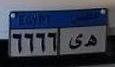6: (46, 31, 57, 54), (35, 32, 46, 53), (12, 31, 22, 54), (24, 32, 34, 54)
haa: (84, 33, 98, 48)
yaa: (68, 32, 84, 51)
